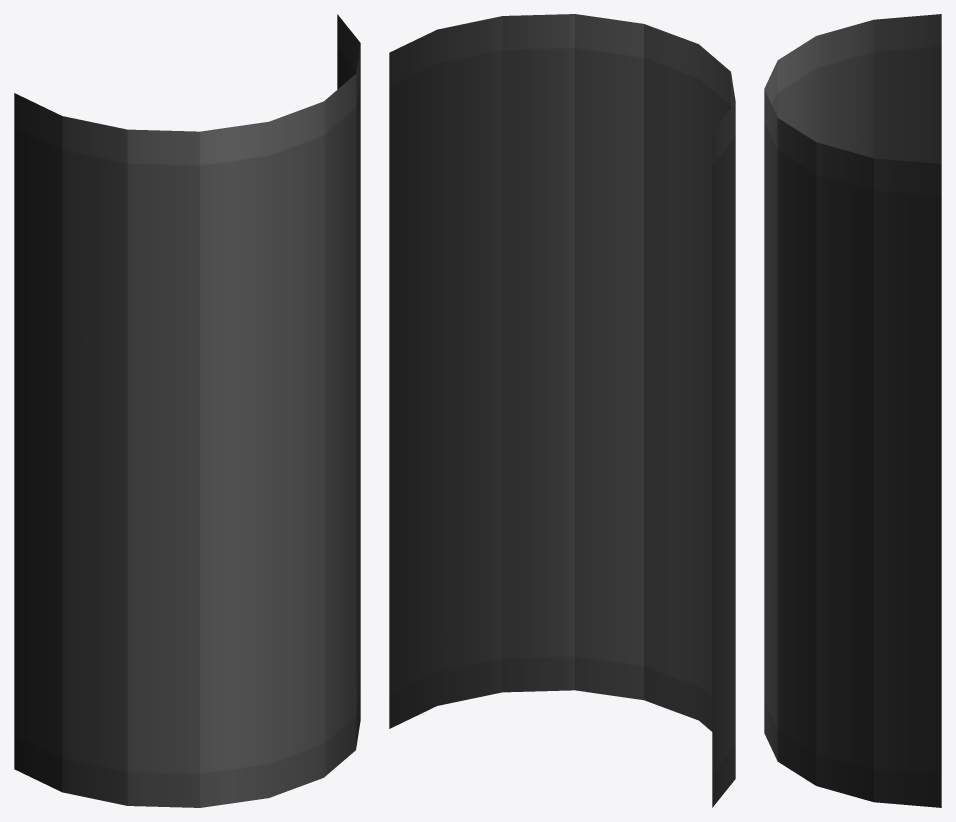
The picture shows the model from 3 angles, left to right: view 1: azimuth 30°, elevation 25°; view 2: azimuth 150°, elevation 25°; view 3: azimuth 270°, elevation 25°; orthographic projection. The views are drawn at different scales.
Visible parts, largest first — view 1: model; view 2: model; view 3: model.
Boxes of the visible parts, x1=… form: model: x1=14, y1=14, x2=360, y2=807; model: x1=389, y1=14, x2=735, y2=807; model: x1=764, y1=14, x2=941, y2=807.
Size of the model in its own units: 0.5 by 1 by 0.25.
1 material, 1 textured.
